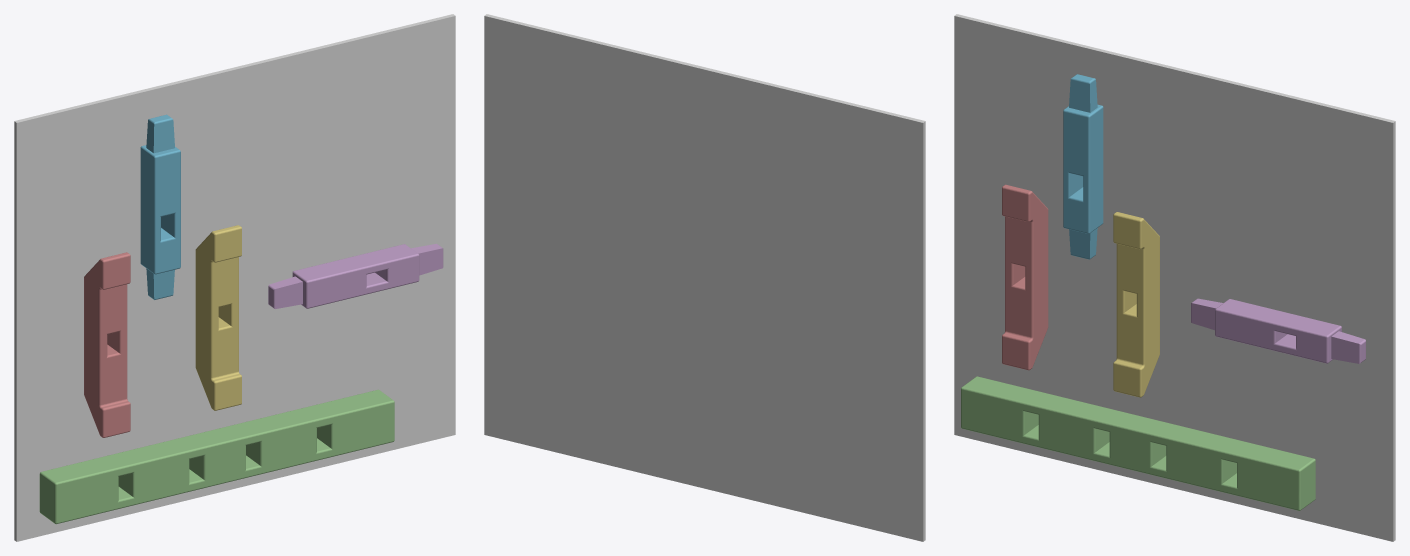
The model's file is pickup_layout.glb.
3 views of the same model, side by side, from view 1: azimuth 30°, elevation 25°; view 2: azimuth 150°, elevation 25°; view 3: azimuth 330°, elevation 25° (orthographic).
Parts seen in each view (by area): view 1: world, 6.obj, 0.obj, 1.obj, 2.obj, 3.obj; view 2: world; view 3: world, 6.obj, 1.obj, 0.obj, 2.obj, 3.obj.
Part boxes in pixels (left/top/right/bottom): world: left=14, top=14, right=455, bottom=541; 6.obj: left=39, top=389, right=394, bottom=524; 0.obj: left=84, top=252, right=130, bottom=437; 1.obj: left=195, top=225, right=241, bottom=410; 2.obj: left=140, top=114, right=180, bottom=299; 3.obj: left=268, top=243, right=443, bottom=308; world: left=484, top=14, right=925, bottom=541; world: left=954, top=14, right=1395, bottom=541; 6.obj: left=961, top=376, right=1315, bottom=510; 1.obj: left=1113, top=212, right=1159, bottom=397; 0.obj: left=1002, top=184, right=1048, bottom=370; 2.obj: left=1063, top=74, right=1103, bottom=259; 3.obj: left=1191, top=298, right=1365, bottom=363.
Bounding box in the file's own units: 19.68 × 17.95 × 1.72.
